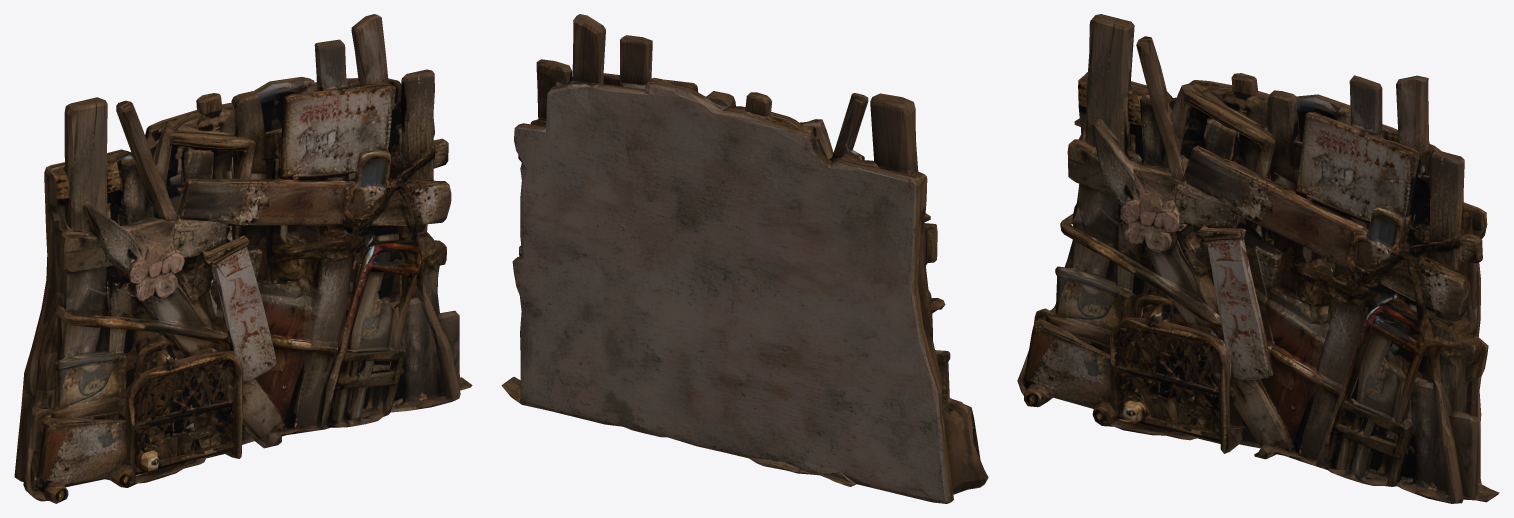
The picture shows the model from 3 angles, left to right: view 1: azimuth 30°, elevation 25°; view 2: azimuth 150°, elevation 25°; view 3: azimuth 330°, elevation 25°; orthographic projection. The views are drawn at different scales.
Visible parts, largest first — view 1: model_textured.obj; view 2: model_textured.obj; view 3: model_textured.obj.
Part boxes in pixels (<box>): model_textured.obj: <box>14,14,472,503</box>; model_textured.obj: <box>501,14,988,503</box>; model_textured.obj: <box>1017,14,1499,503</box>.
Size of the model in its own units: 1.99 by 1.63 by 0.3155.
1 material, 1 textured.
